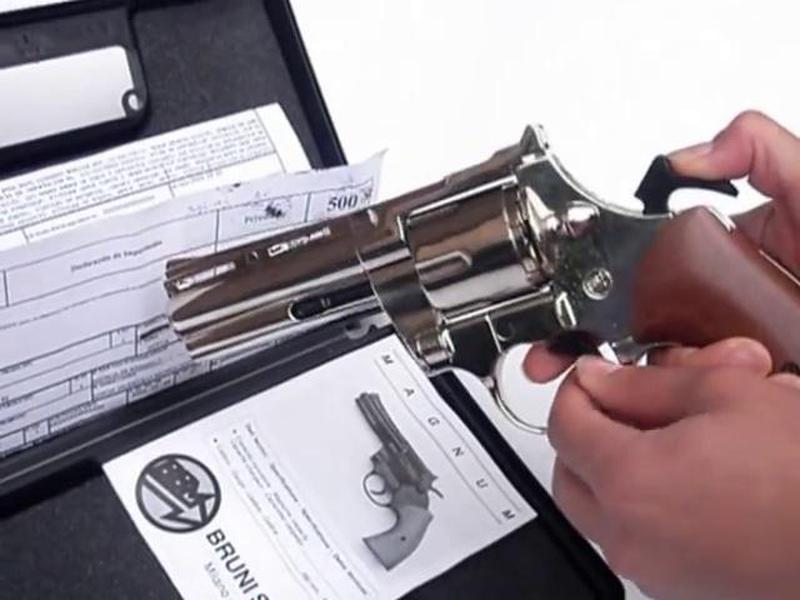Revolver: (136, 94, 800, 444)
